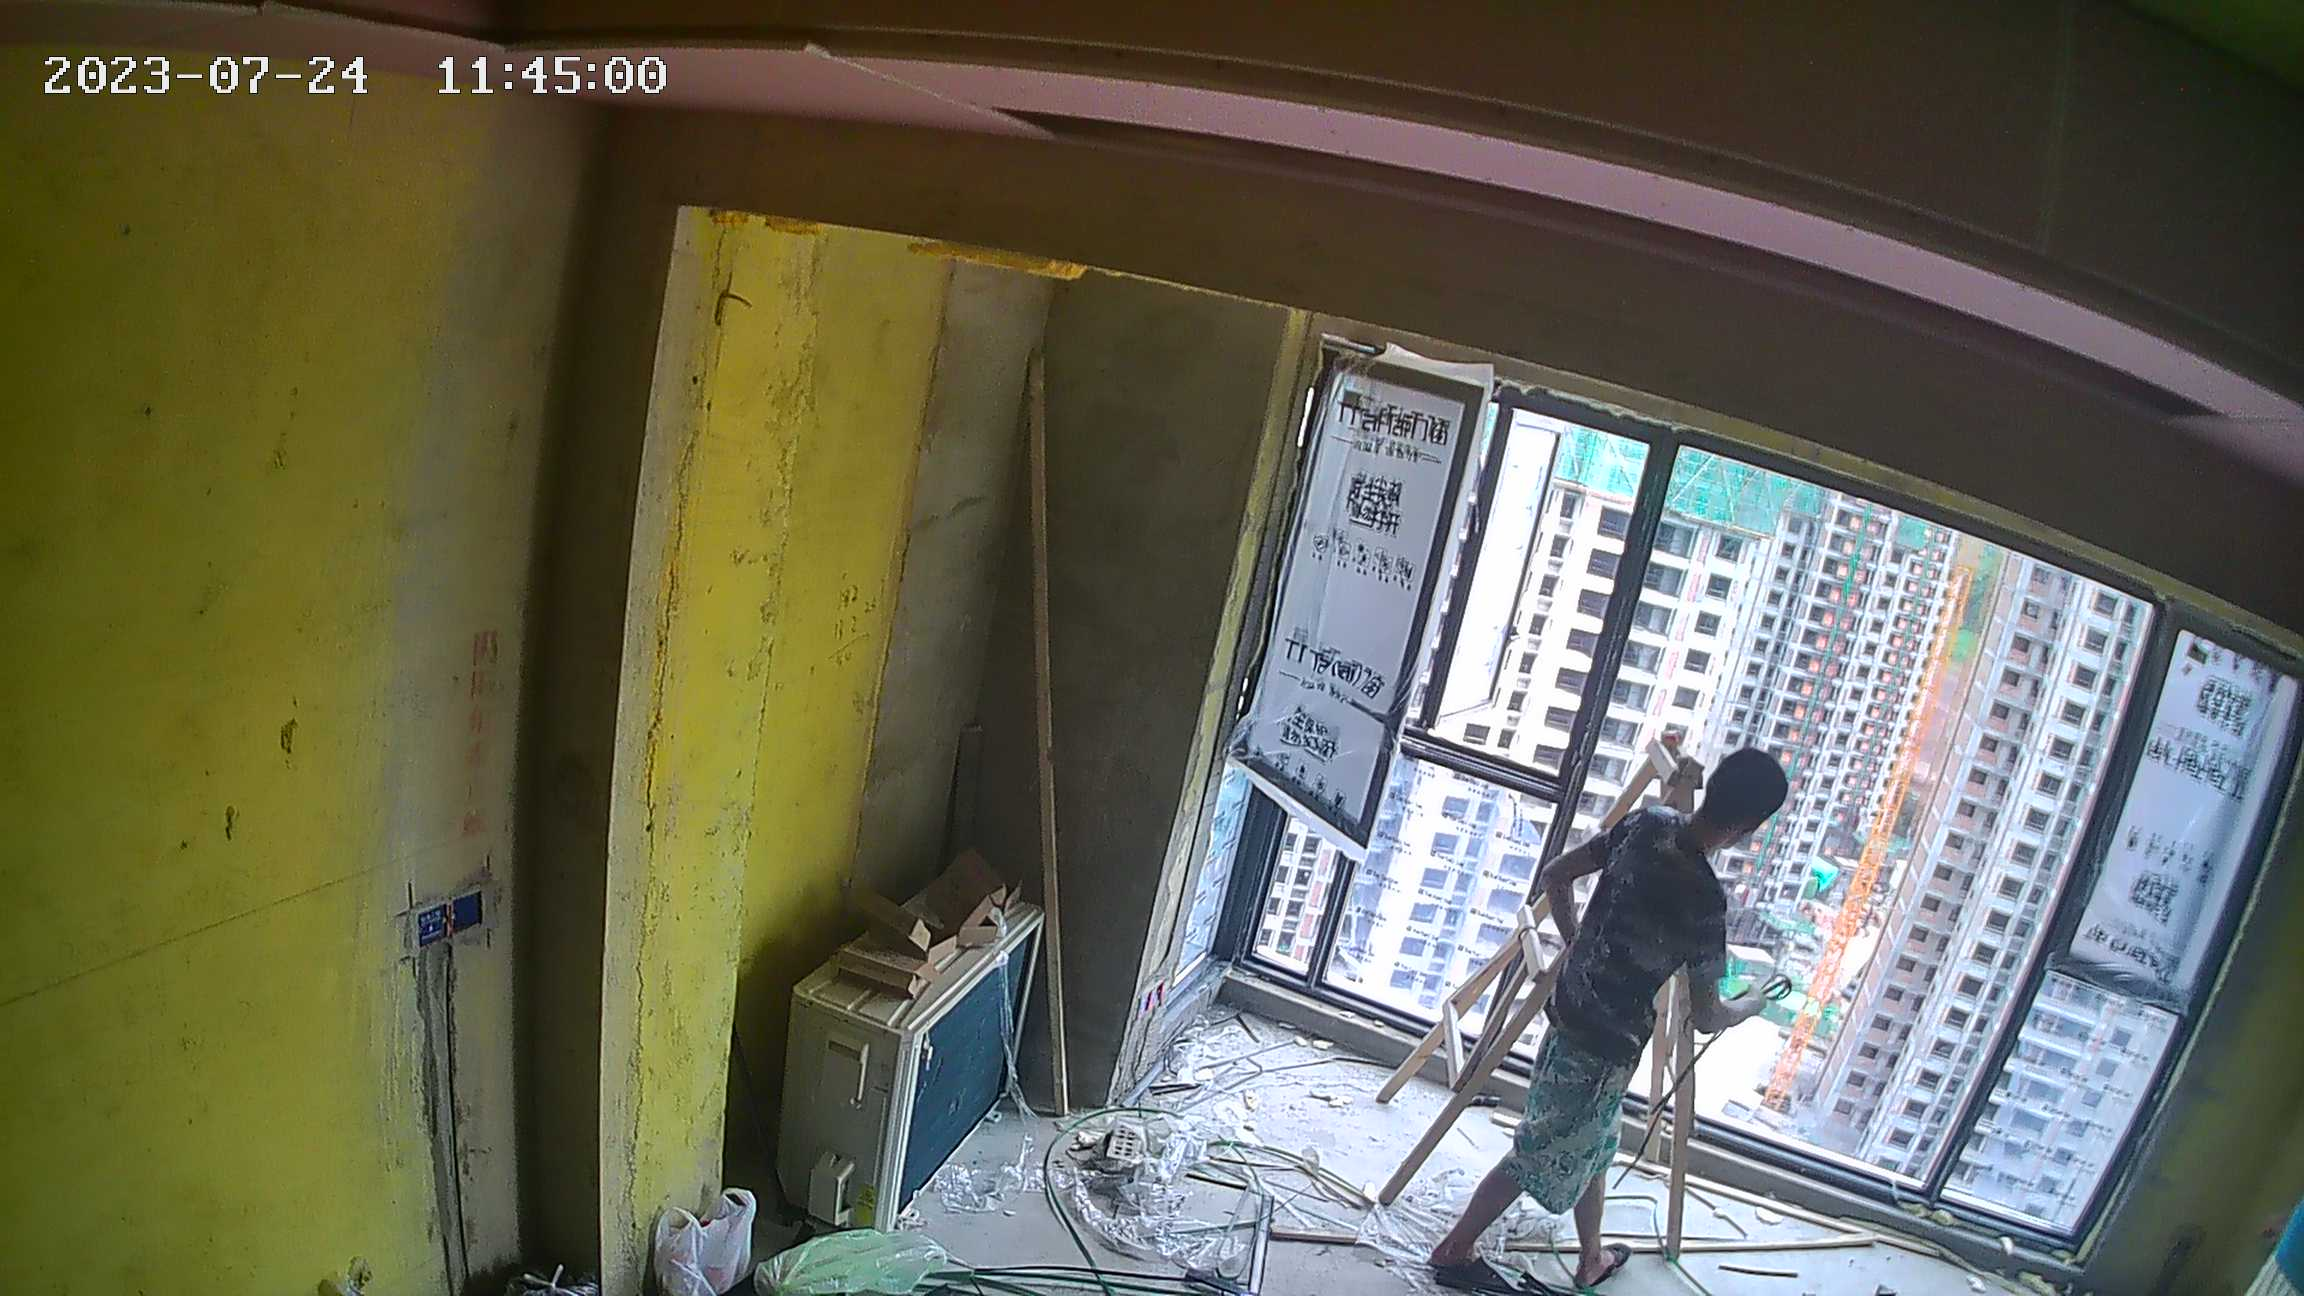people: (1435, 732, 1783, 1292)
window: (1221, 337, 2245, 1250)
